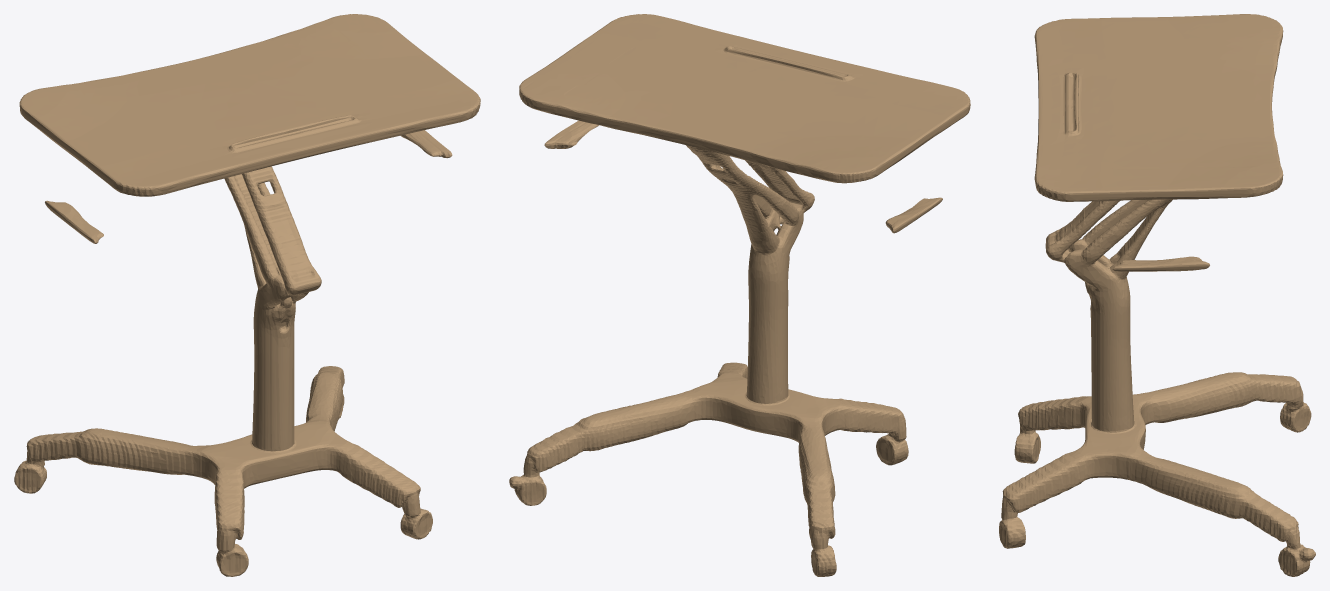
File: beso-flexrise-height-adjustable-table.glb
3 renders of one model, left to right at view 1: azimuth 30°, elevation 25°; view 2: azimuth 150°, elevation 25°; view 3: azimuth 270°, elevation 25°, orthographic. The views are drawn at different scales.
Visible parts, largest first — view 1: tmpd89wm37g.ply; view 2: tmpd89wm37g.ply; view 3: tmpd89wm37g.ply.
Part boxes in pixels (box(x1,y1,x2,y2)): tmpd89wm37g.ply: box(14, 14, 480, 576); tmpd89wm37g.ply: box(509, 14, 970, 576); tmpd89wm37g.ply: box(999, 14, 1315, 576).
Bounding box in the file's own units: 1.86 × 1.99 × 1.43.
